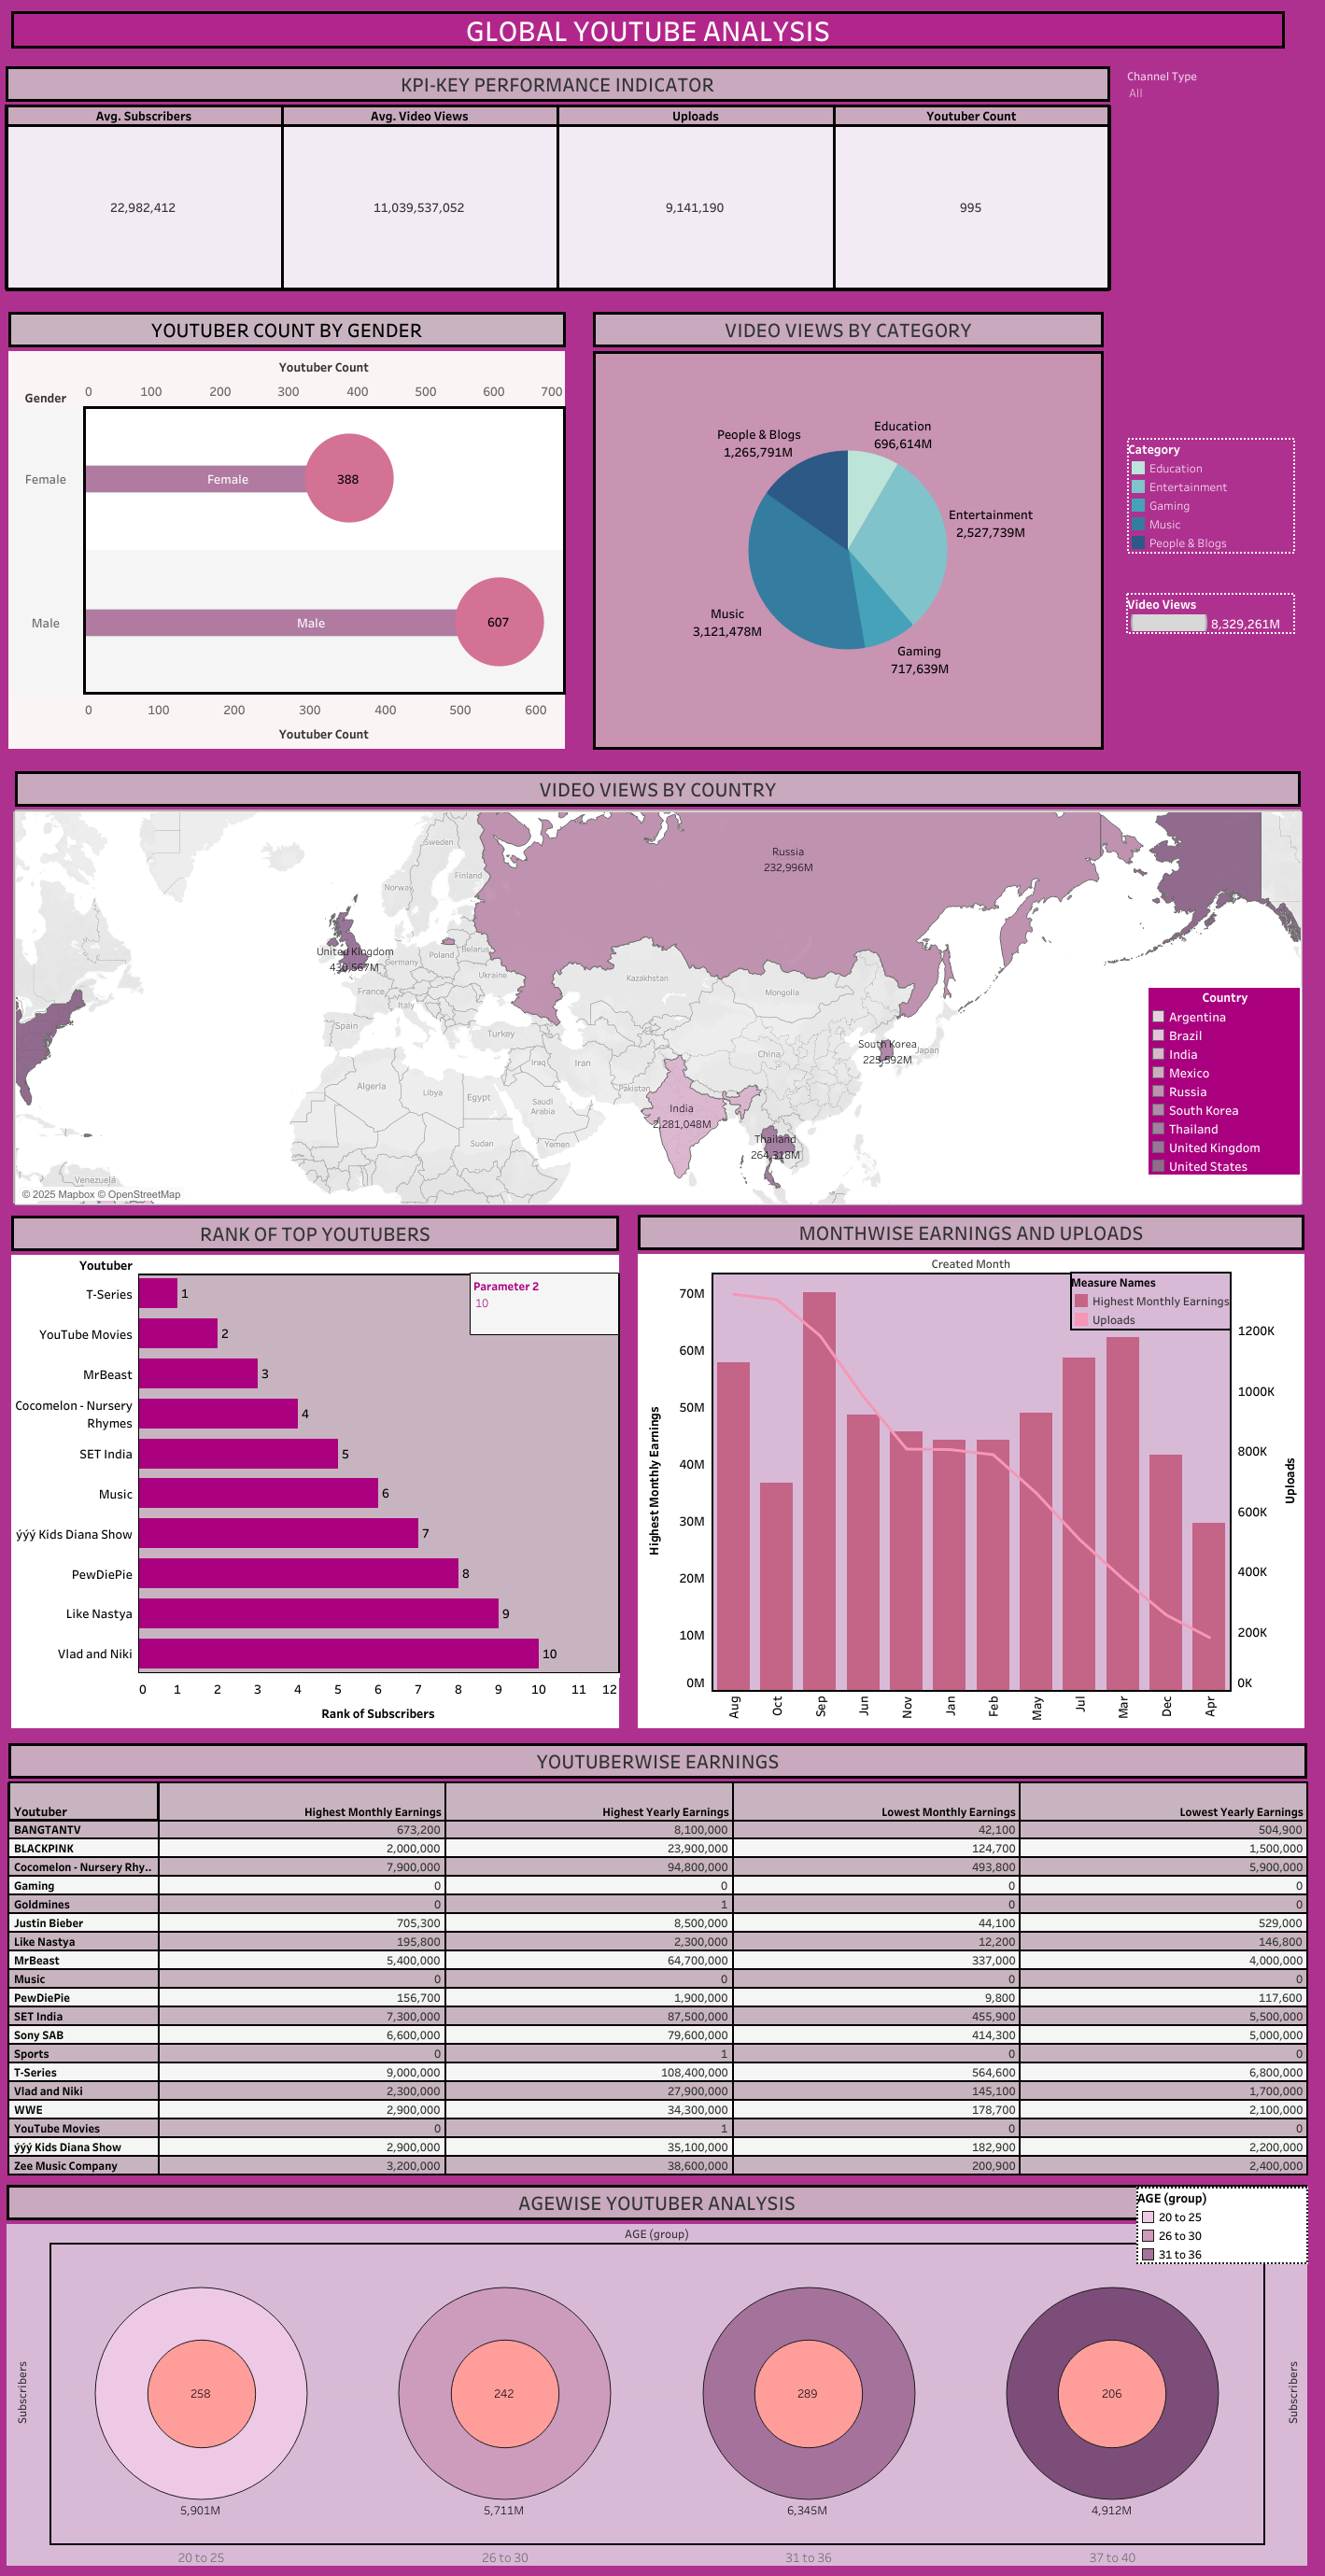

What the dashboard file says about the page in this screenshot:
{"tool":"tableau","page":{"name":"Dashboard 1","canvas":[1000,1000],"units":"permille","ordinal":0},"visuals":[{"type":"title","box":[5.6,2.9,966.2,17.4]},{"type":"worksheet","title":"KPI","mark":"Automatic","box":[3.5,25.7,834.5,87.3]},{"type":"filter","title":"KPI","param":"[federated.0c3rrix0pwihol1eldnam0r27swk].[none:channel_type:nk]","box":[850,25.7,126.8,134.8]},{"type":"worksheet","title":"Youtuber Count by Gender","mark":"Automatic","rows":["Gender"],"cols":["Calculation_831477131657289728","Calculation_831477131657289728"],"box":[5.6,121,421.8,170.3]},{"type":"worksheet","title":"Video Views by Catergory","mark":"Pie","box":[446.5,121,386.6,170.3]},{"type":"legend","title":"Video Views by Catergory","param":"[federated.0c3rrix0pwihol1eldnam0r27swk].[none:category:nk]","box":[850,169.9,126.8,51.1]},{"type":"legend","title":"Video Views by Catergory","param":"[federated.0c3rrix0pwihol1eldnam0r27swk].[sum:video views:qk]","box":[849.3,230.1,127.5,23.6]},{"type":"worksheet","title":"Video Views by Country","mark":"Multipolygon","box":[9.9,299.3,972.5,168.5]},{"type":"legend","title":"Video Views by Country","param":"[federated.0c3rrix0pwihol1eldnam0r27swk].[none:Country:nk]","box":[864.8,382.6,116.9,84.4]},{"type":"worksheet","title":"Monthwise earnings and uploads","mark":"Automatic","rows":["highest_monthly_earnings","uploads"],"cols":["created_month"],"box":[480.3,471.4,504.2,199.6]},{"type":"worksheet","title":"Parameter by Youtuber","mark":"Automatic","rows":["Youtuber"],"box":[7.8,471.7,459.9,199.3]},{"type":"legend","title":"Monthwise earnings and uploads","param":"[federated.0c3rrix0pwihol1eldnam0r27swk].[:Measure Names]","box":[807,493.5,121.8,23.9]},{"type":"parameter","param":"[Parameters].[Parameter 2]","box":[354.2,493.8,112.7,24.3]},{"type":"worksheet","title":"Youtuberwise Earnings","mark":"Automatic","rows":["Youtuber"],"box":[5.6,676.5,981,167.8]},{"type":"worksheet","title":"Agewise youtuber analysis","mark":"Automatic","rows":["subscribers","subscribers"],"box":[4.2,847.8,982.4,148.2]},{"type":"legend","title":"Agewise youtuber analysis","param":"[federated.0c3rrix0pwihol1eldnam0r27swk].[AGE (group)]","box":[857,848.6,129.6,30.1]}]}

Visuals, with their boxes on the dashboard's canvas, which has no fixed pixel size, in thousandths of its width and height (x1, y1, x2, y2). These are canvas units, not pixel positions in the 1325x2576 screenshot, which may show the page scaled, cropped or inside an application window:
title: crop(6, 3, 972, 20)
"KPI" worksheet: crop(4, 26, 838, 113)
"KPI" filter: crop(850, 26, 977, 160)
"Youtuber Count by Gender" worksheet: crop(6, 121, 427, 291)
"Video Views by Catergory" worksheet (Pie marks): crop(446, 121, 833, 291)
"Video Views by Catergory" legend: crop(850, 170, 977, 221)
"Video Views by Catergory" legend: crop(849, 230, 977, 254)
"Video Views by Country" worksheet (Multipolygon marks): crop(10, 299, 982, 468)
"Video Views by Country" legend: crop(865, 383, 982, 467)
"Monthwise earnings and uploads" worksheet: crop(480, 471, 984, 671)
"Parameter by Youtuber" worksheet: crop(8, 472, 468, 671)
"Monthwise earnings and uploads" legend: crop(807, 494, 929, 517)
parameter: crop(354, 494, 467, 518)
"Youtuberwise Earnings" worksheet: crop(6, 676, 987, 844)
"Agewise youtuber analysis" worksheet: crop(4, 848, 987, 996)
"Agewise youtuber analysis" legend: crop(857, 849, 987, 879)
